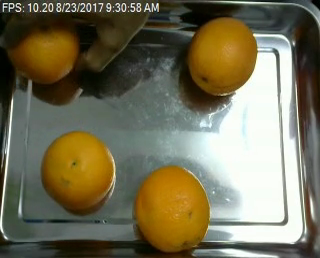Orange: (134, 167, 210, 252), (40, 131, 115, 212), (188, 16, 258, 93)
